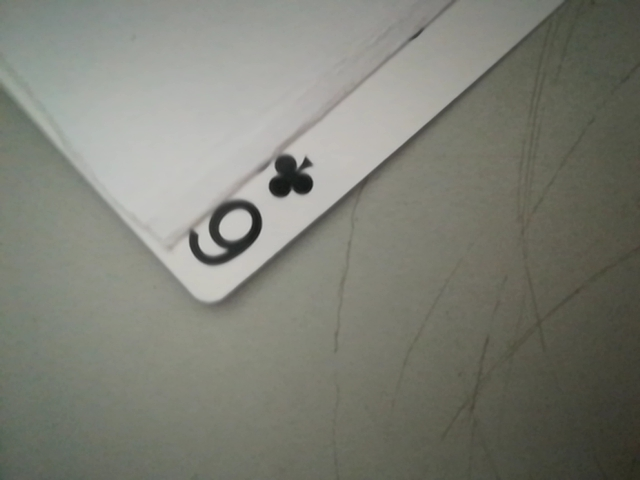mh 6: (175, 145, 333, 292)
